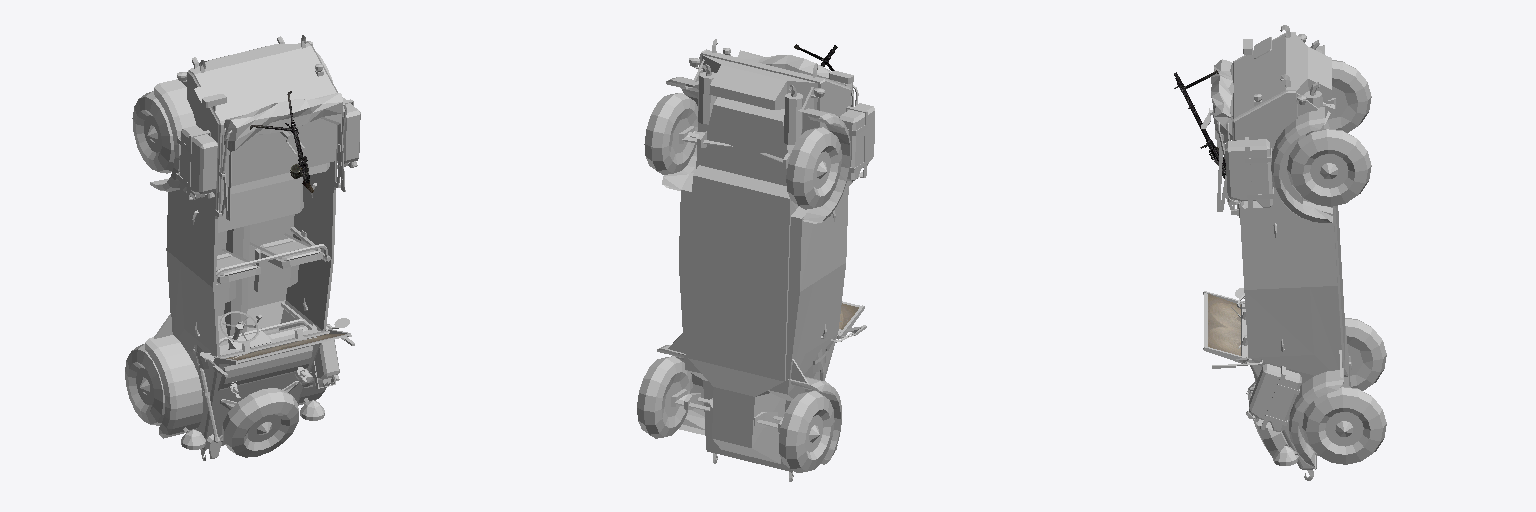
3 renders of one model, left to right at view 1: azimuth 30°, elevation 25°; view 2: azimuth 150°, elevation 25°; view 3: azimuth 270°, elevation 25°, orthographic.
Visible parts, largest first — view 1: Lod_0, Lod_01, Lod_03; view 2: Lod_0; view 3: Lod_0, Lod_01, Lod_02, Lod_03.
Part boxes in pixels (left/top/right/bottom): Lod_0: left=125, top=35, right=360, bottom=460; Lod_01: left=290, top=237, right=333, bottom=330; Lod_03: left=250, top=91, right=313, bottom=192; Lod_0: left=637, top=39, right=874, bottom=481; Lod_0: left=1201, top=25, right=1386, bottom=480; Lod_01: left=1244, top=287, right=1313, bottom=357; Lod_02: left=1208, top=294, right=1240, bottom=355; Lod_03: left=1174, top=70, right=1225, bottom=178.
Bounding box in the file's own units: 166 × 389 × 182.
3 materials, 2 textured.